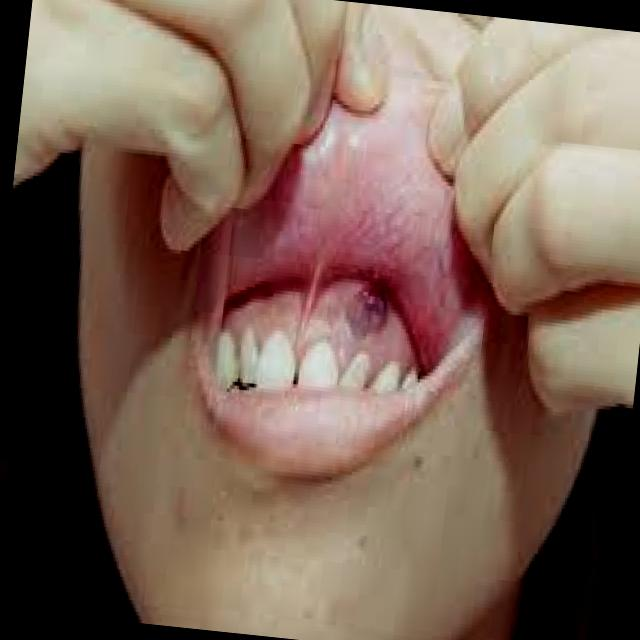abscess: (326, 273, 416, 370)
